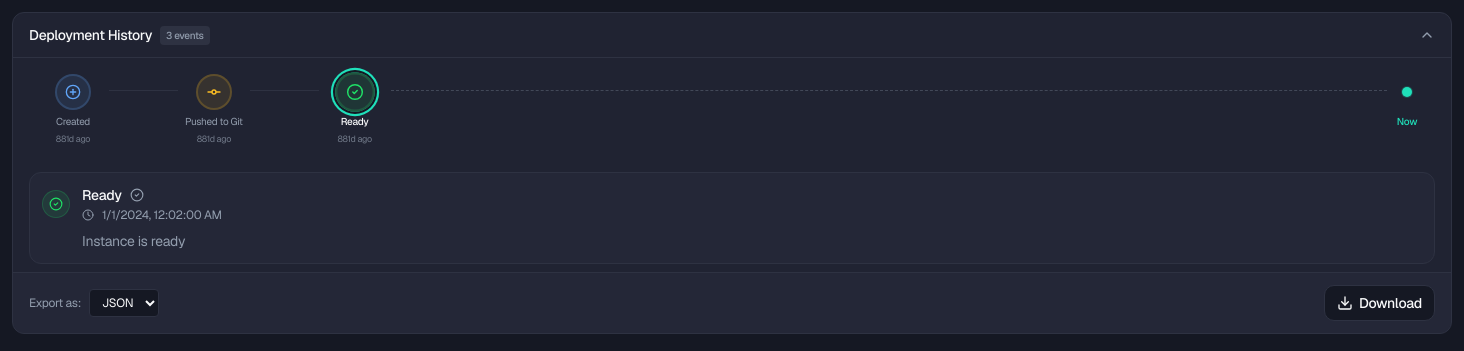
it: DeploymentTimeline › shows detail for a clicked node
Click the "Created" node to see its detail
Click the button "Created 881d ago".
click(73, 109)  # box 37,74 -> 109,144
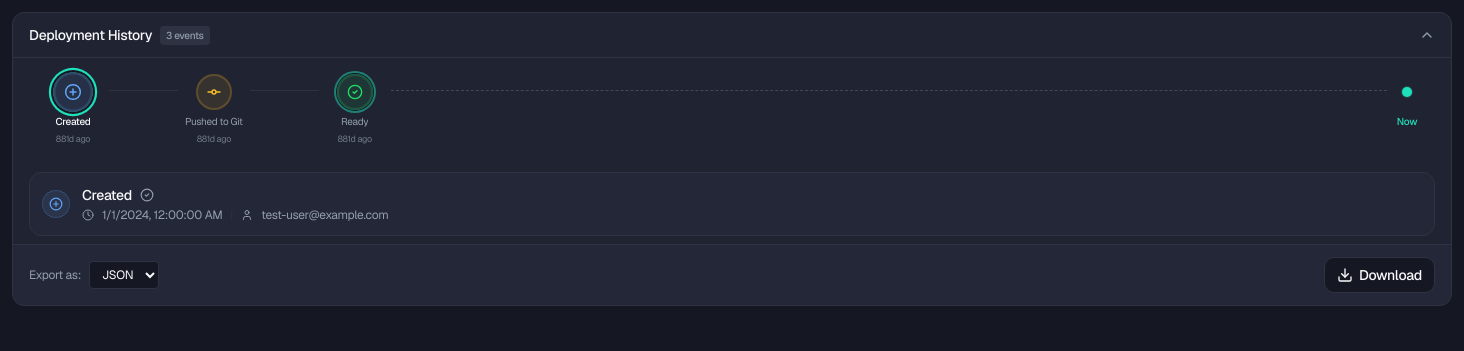
Expected: the text "test-user@example.com" is shown, 261,206 -> 388,222
